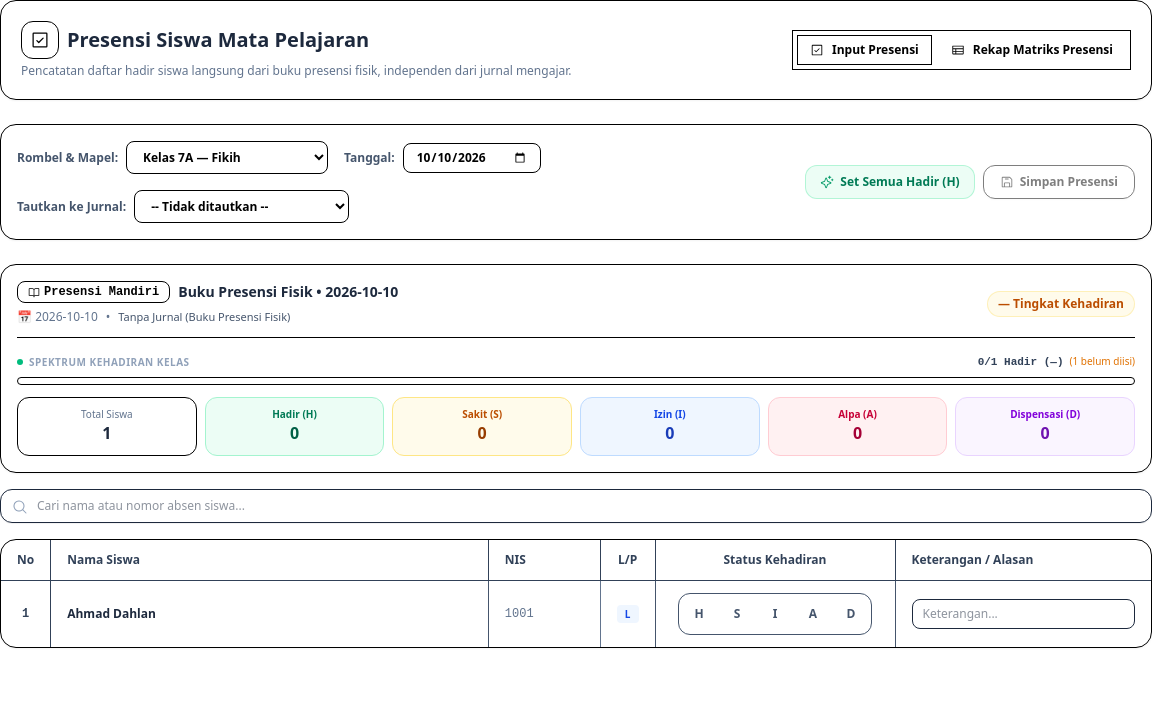
Scenario: SubjectAttendance Context Integrity & Safety (Reqs 4-13) › Req 10: Canceling unsaved-changes confirmation keeps active assignment and state intact
Expected: the text "Ahmad Dahlan" is shown, [67,606,156,622]
// Make dirty by toggling attendance
Click the button titled "Sakit (S)" at coordinates (737, 614), box [721,598,753,630]
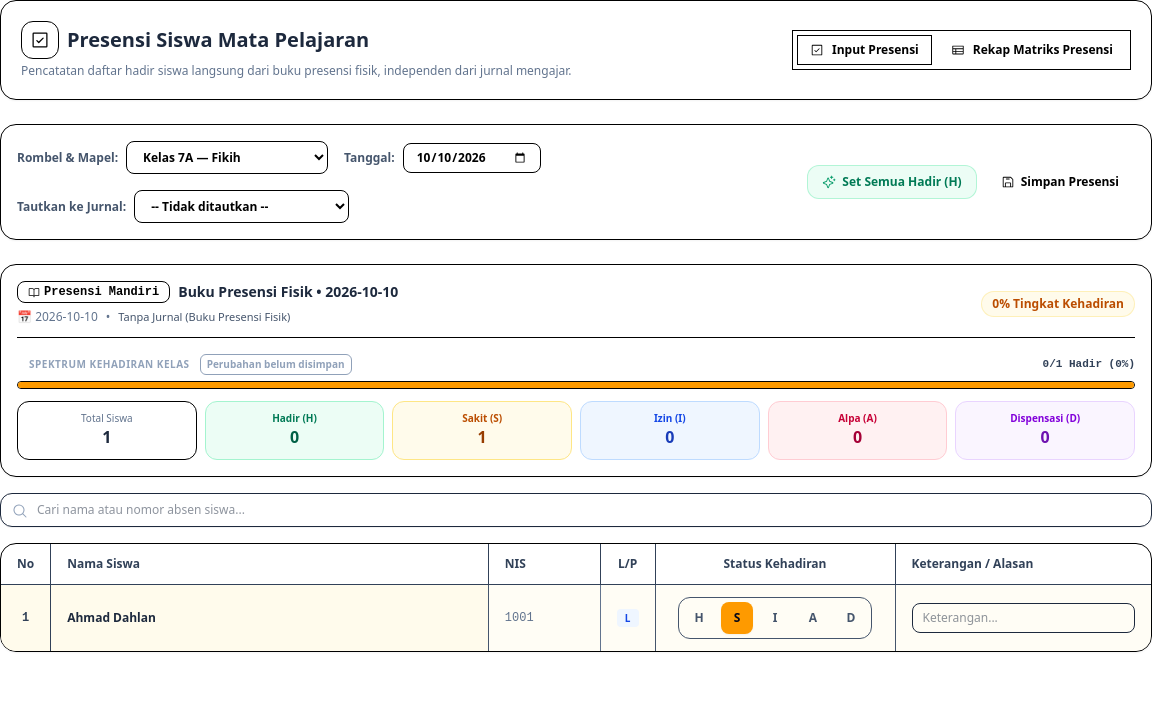
// Attempt to switch assignment
Select "Kelas 8B — Akidah Akhlak" in the dropdown next to "Rombel & Mapel:" at coordinates (227, 158), box [126,141,328,174]
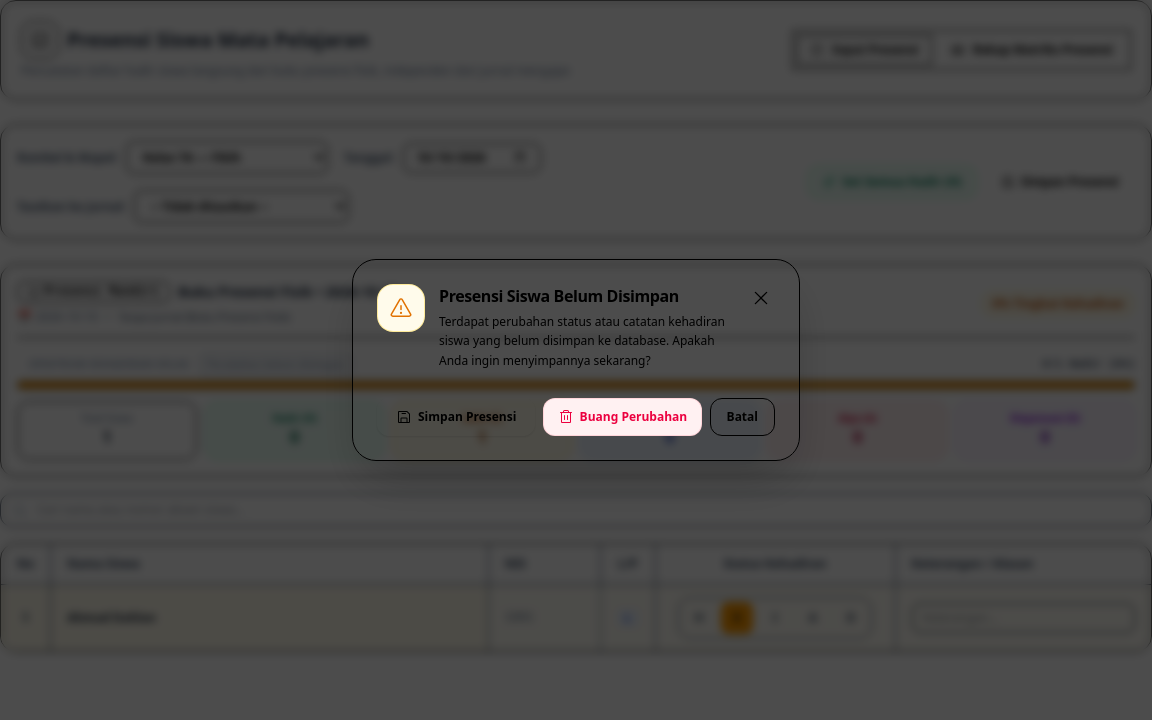
Now the dialog is shown, box [352,259,800,461]
// Click "Batal"
Click the button "Batal" at coordinates (742, 417), box [710,398,775,436]
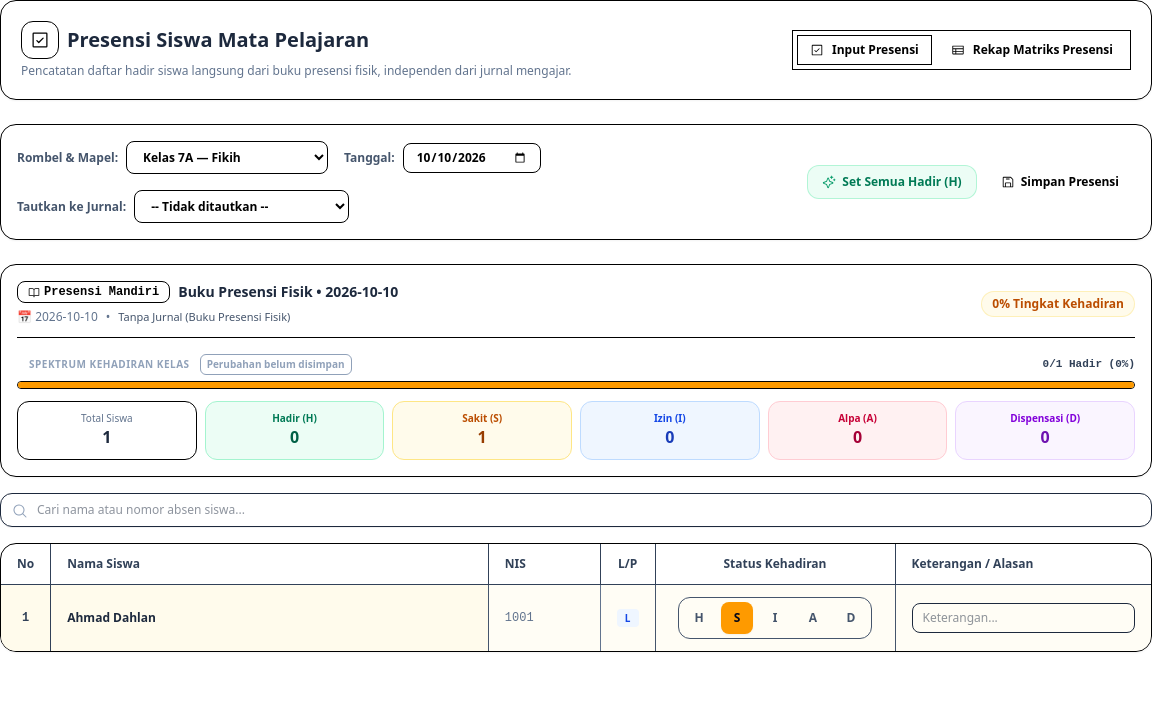
Expected: the text "Ahmad Dahlan" is shown, [67,610,156,626]
Now the dialog is gone
